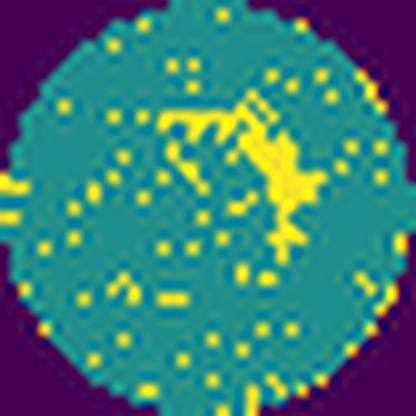Loc: (158, 89, 325, 261)
